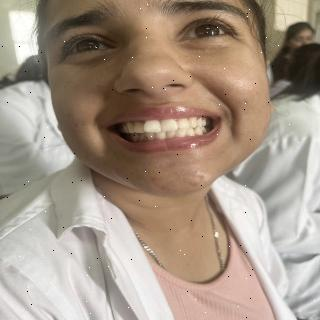maligned: (139, 116, 165, 134), (132, 123, 150, 134), (176, 128, 190, 138)
